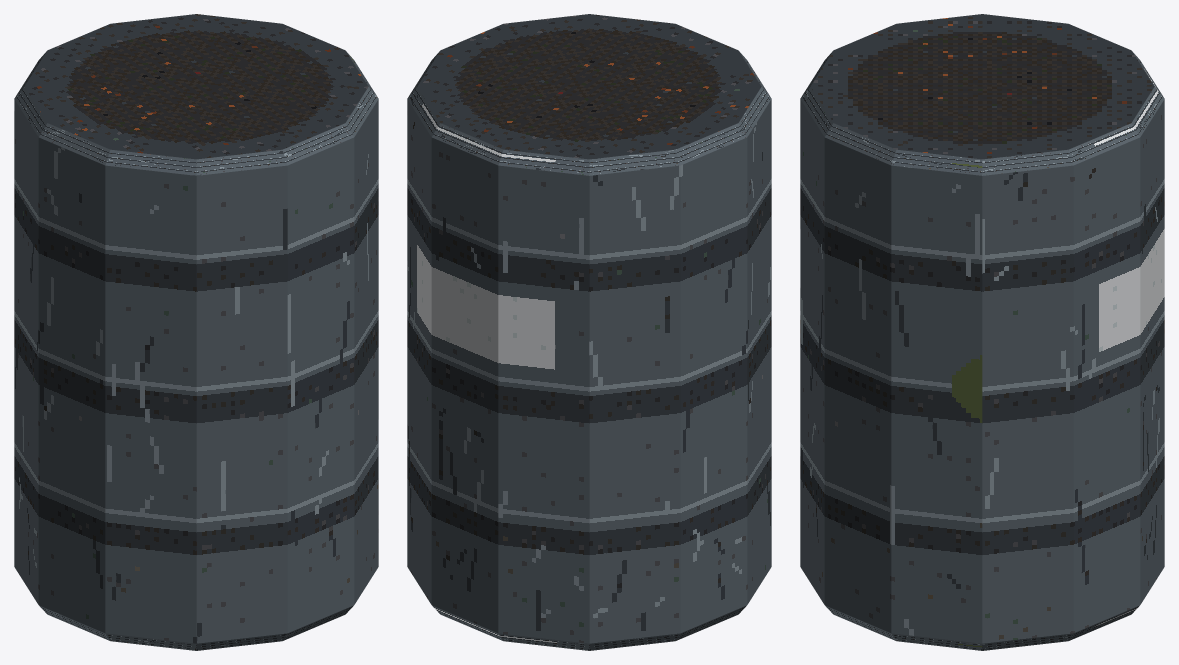
The model's file is SM_Prop_BarrelBlue_01.glb.
3 views of the same model, side by side, from view 1: azimuth 30°, elevation 25°; view 2: azimuth 150°, elevation 25°; view 3: azimuth 270°, elevation 25° (orthographic).
Visible parts, largest first — view 1: SM_Prop_BarrelBlue_01; view 2: SM_Prop_BarrelBlue_01; view 3: SM_Prop_BarrelBlue_01.
Part boxes in pixels (x1=…): SM_Prop_BarrelBlue_01: x1=14, y1=14, x2=378, y2=650; SM_Prop_BarrelBlue_01: x1=407, y1=14, x2=771, y2=650; SM_Prop_BarrelBlue_01: x1=800, y1=14, x2=1164, y2=650.
Size of the model in its own units: 0.572 by 0.851 by 0.572.
1 material, 1 textured.
